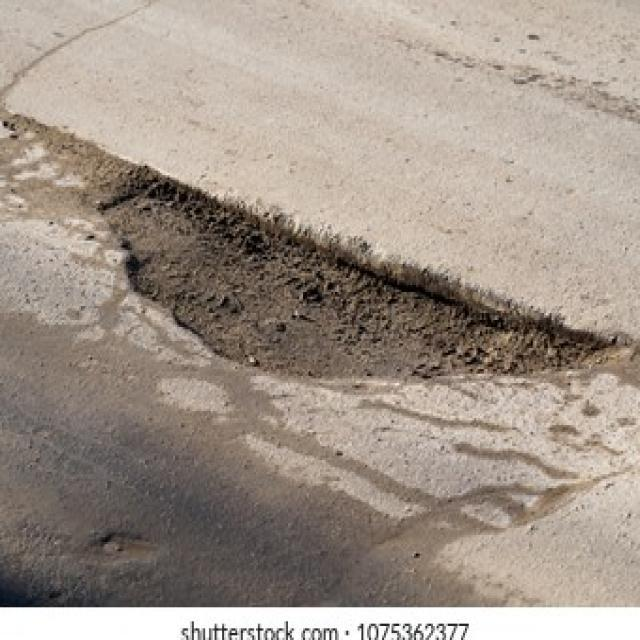Pothole: (98, 147, 630, 393)
